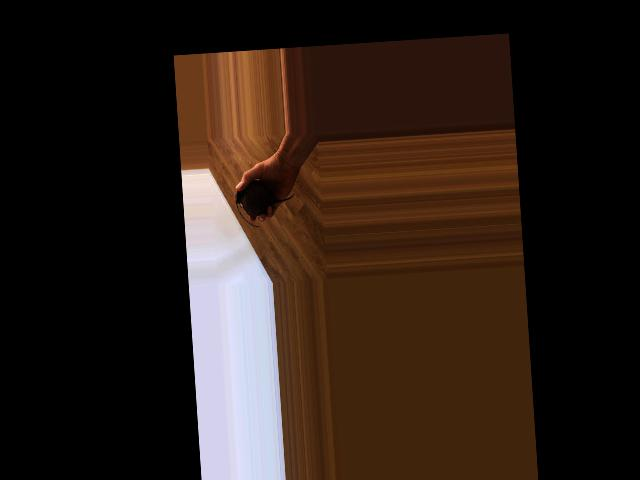beet: (234, 178, 296, 229)
